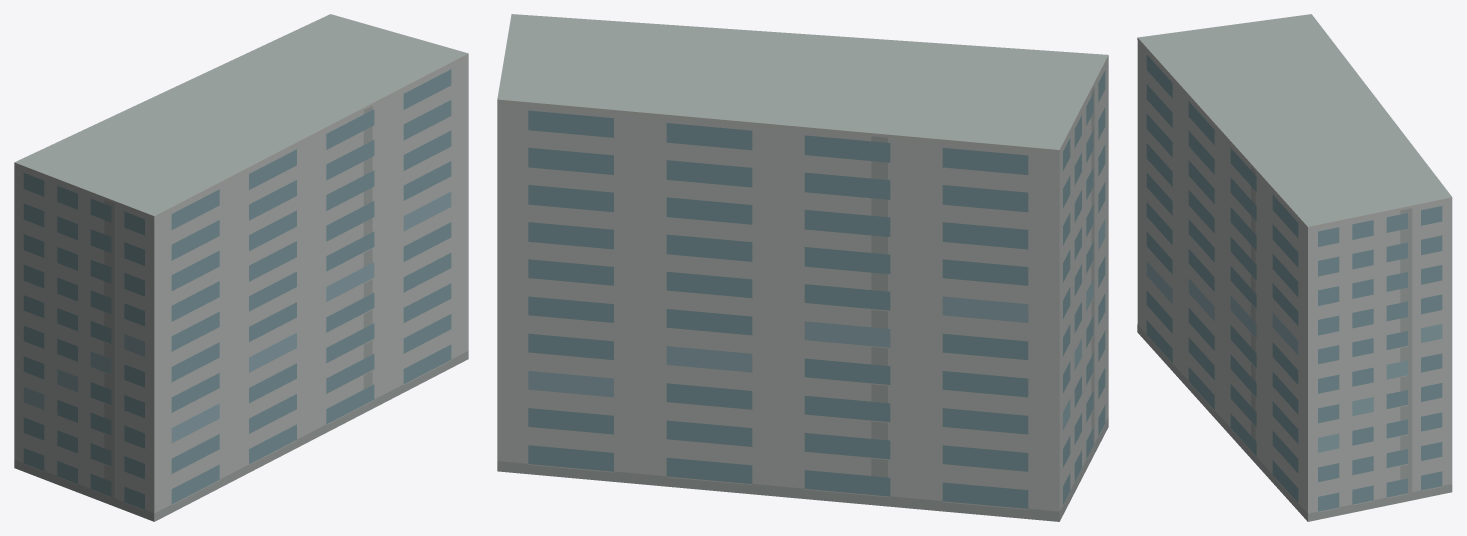
The model's file is residential-d1e67f2d-7230-4891-8a9f-f9d2037ba5af.glb.
The picture shows the model from 3 angles, left to right: view 1: azimuth 30°, elevation 25°; view 2: azimuth 150°, elevation 25°; view 3: azimuth 270°, elevation 25°; orthographic projection. The views are drawn at different scales.
Visible parts, largest first — view 1: residential-d1e67f2d-7230-4891-8a9f-f9d2037ba5af.tmp; view 2: residential-d1e67f2d-7230-4891-8a9f-f9d2037ba5af.tmp; view 3: residential-d1e67f2d-7230-4891-8a9f-f9d2037ba5af.tmp.
Boxes of the visible parts, x1,y1,x2,y2 form: residential-d1e67f2d-7230-4891-8a9f-f9d2037ba5af.tmp: (14, 14, 468, 521); residential-d1e67f2d-7230-4891-8a9f-f9d2037ba5af.tmp: (497, 14, 1108, 521); residential-d1e67f2d-7230-4891-8a9f-f9d2037ba5af.tmp: (1137, 14, 1452, 521).
Size of the model in its own units: 44.92 by 29 by 28.07.
